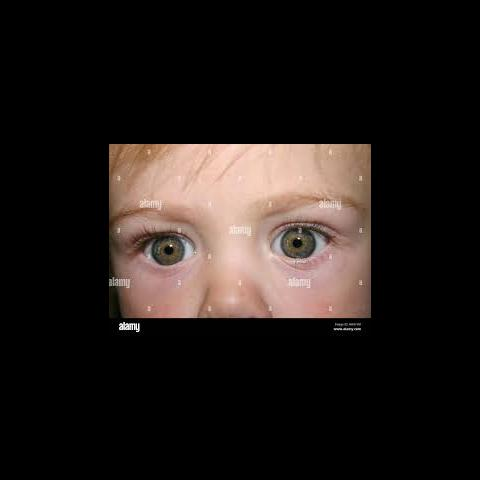opened: (122, 202, 349, 272)
